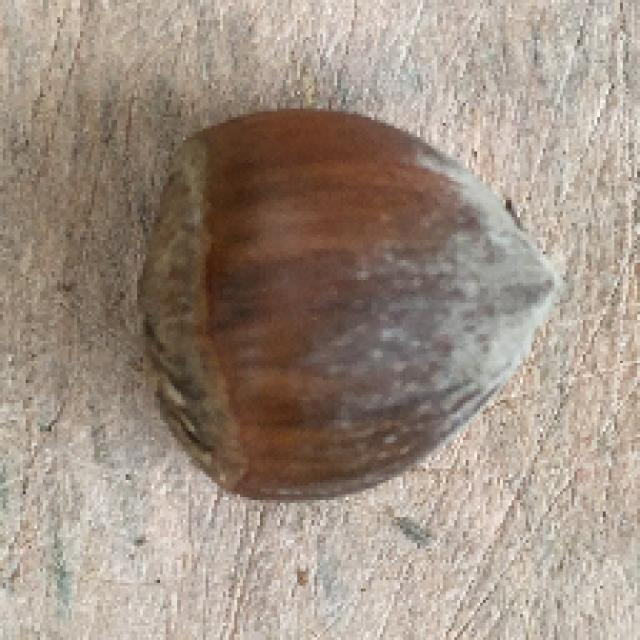damagedHazelnut: (132, 102, 556, 513)
